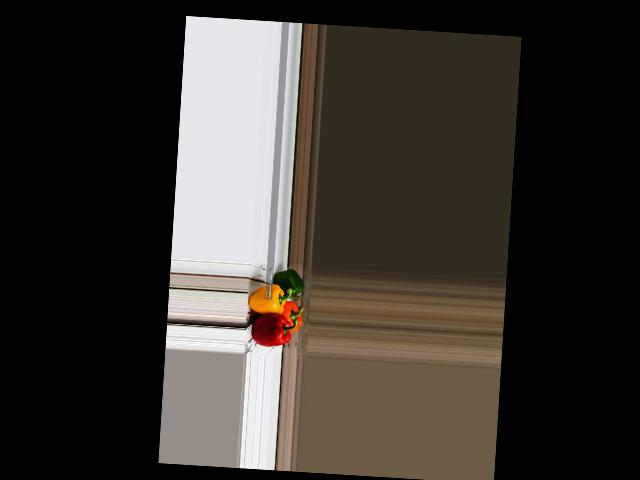bell_pepper: (279, 299, 304, 333)
